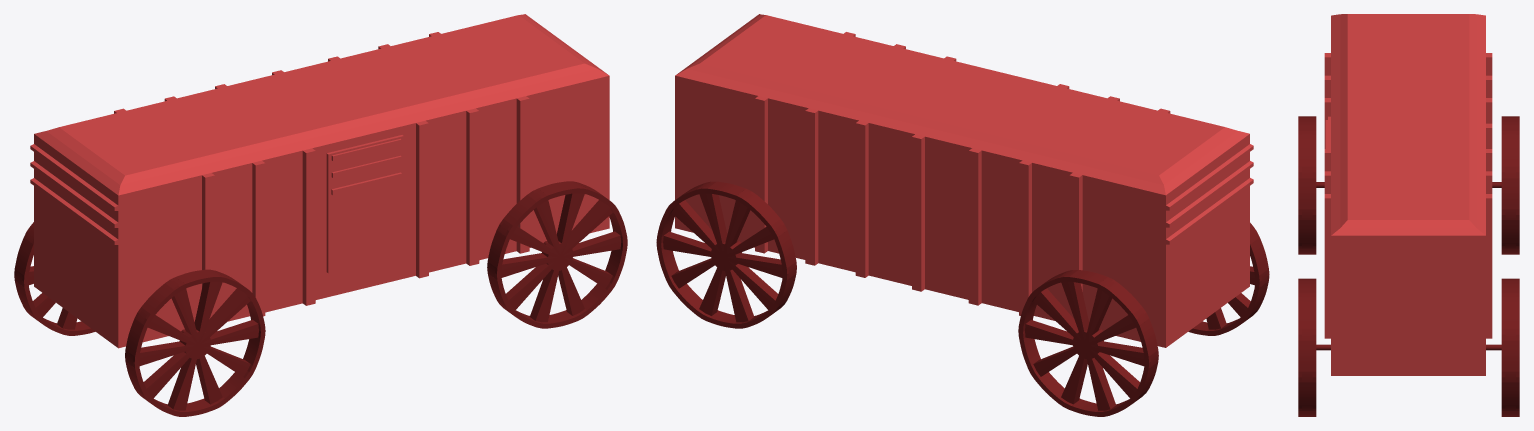
File: CartSmall.fbx
3 views of the same model, side by side, from view 1: azimuth 30°, elevation 25°; view 2: azimuth 150°, elevation 25°; view 3: azimuth 270°, elevation 25° (orthographic). The views are drawn at different scales.
Visible parts, largest first — view 1: polySurface31; view 2: polySurface31; view 3: polySurface31.
Boxes of the visible parts, box(x1,y1,x2,y2) form: polySurface31: box(14, 14, 627, 416); polySurface31: box(656, 14, 1269, 416); polySurface31: box(1298, 14, 1519, 416).
Bounding box in the file's own units: 21.75 × 9.69 × 9.17.
